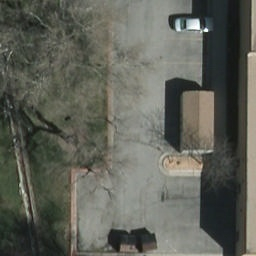car: (174, 17, 215, 33)
